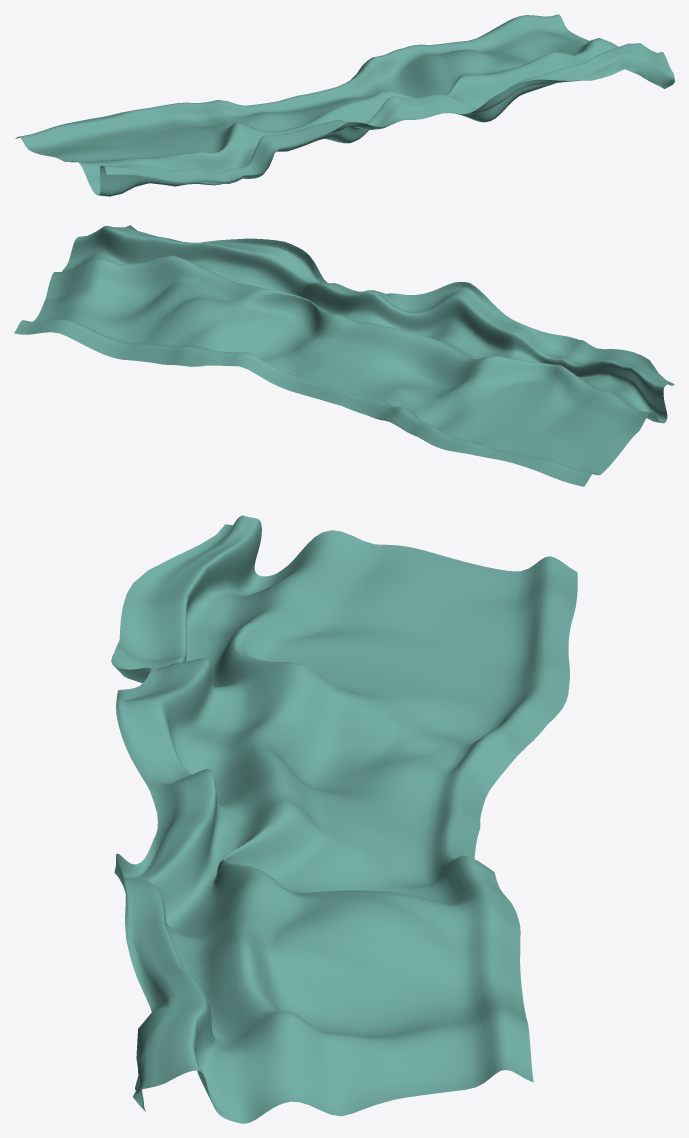
File: environmentproject_dropcloth.fbx
3 renders of one model, top to bottom at view 1: azimuth 30°, elevation 25°; view 2: azimuth 150°, elevation 25°; view 3: azimuth 270°, elevation 25°, orthographic. The views are drawn at different scales.
Visible parts, largest first — view 1: dropcloth_a_GEO_01; view 2: dropcloth_a_GEO_01; view 3: dropcloth_a_GEO_01.
Boxes of the visible parts, x1,y1,x2,y2 form: dropcloth_a_GEO_01: (15,14,674,196); dropcloth_a_GEO_01: (14,225,674,486); dropcloth_a_GEO_01: (111,515,577,1123).
Size of the model in its own units: 491 by 44.6 by 177.
